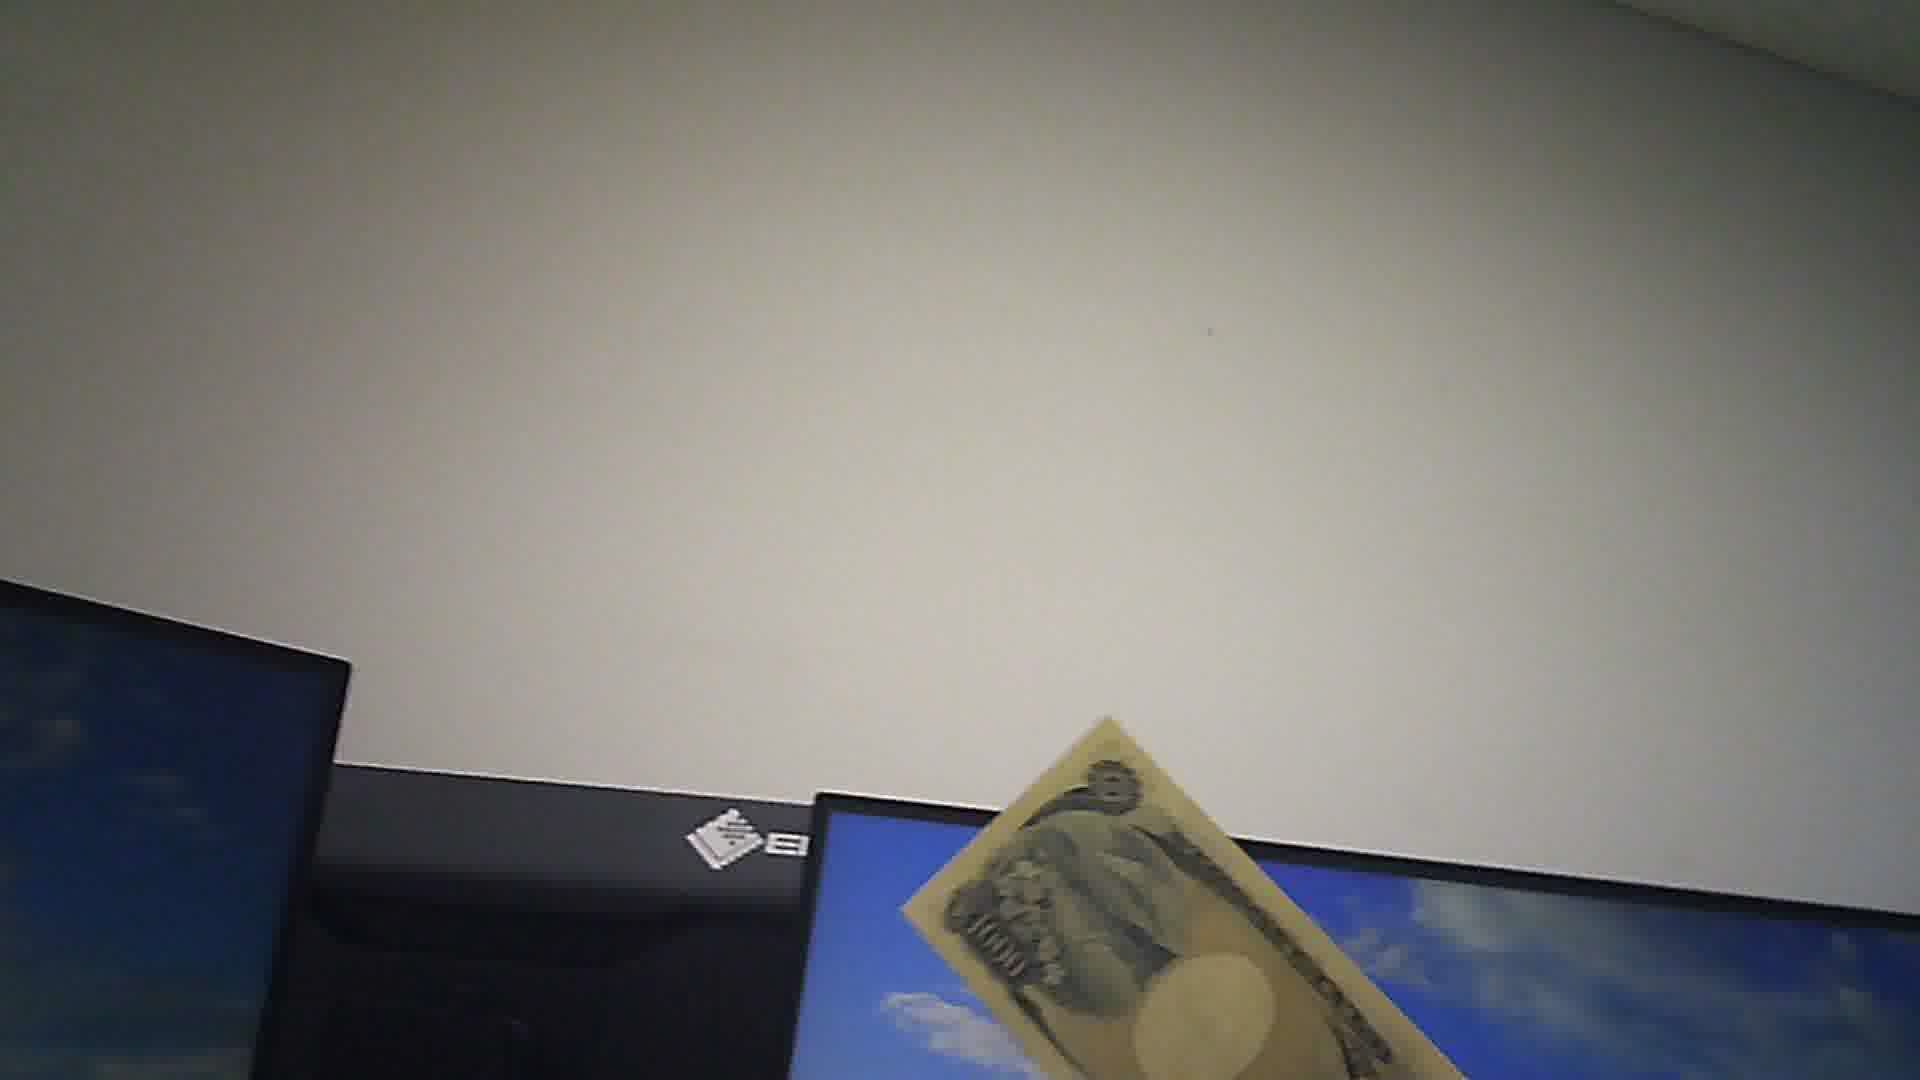1,000 Yen: (899, 715, 1452, 1079)
